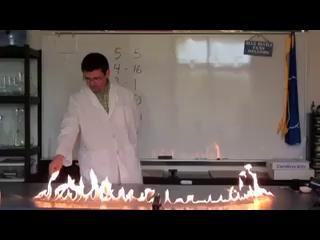Fire: (37, 182, 274, 210)
